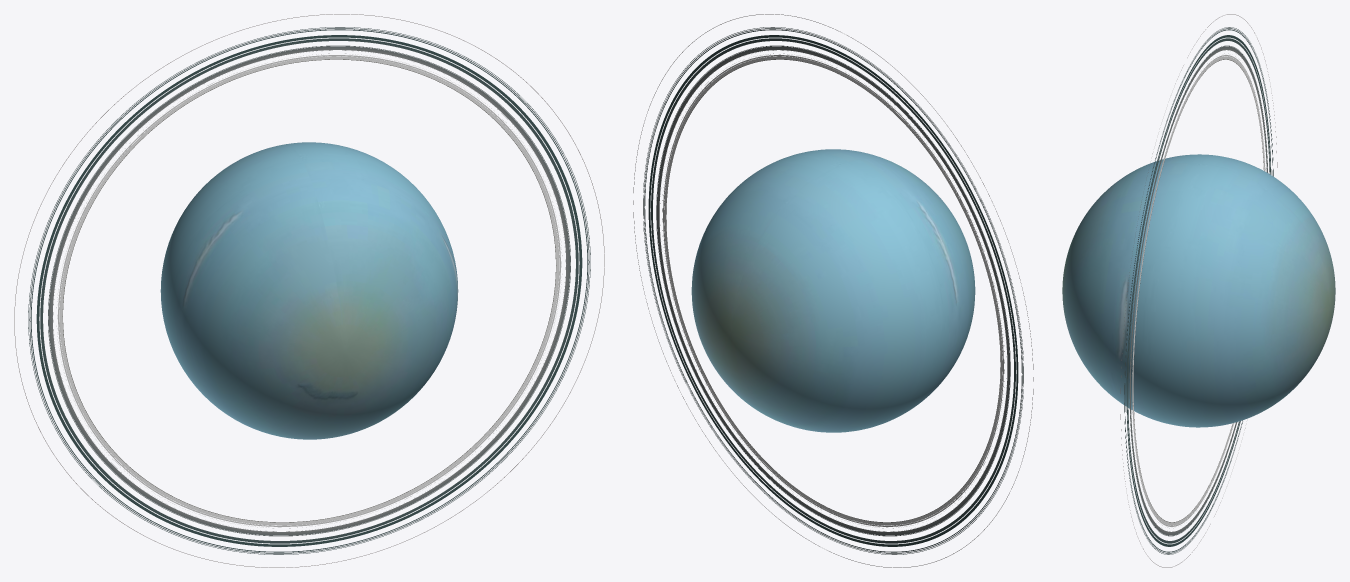
File: uranus.glb
The picture shows the model from 3 angles, left to right: view 1: azimuth 30°, elevation 25°; view 2: azimuth 150°, elevation 25°; view 3: azimuth 270°, elevation 25°; orthographic projection. The views are drawn at different scales.
Visible parts, largest first — view 1: node_id106, node_id108; view 2: node_id106, node_id108; view 3: node_id106, node_id108.
Boxes of the visible parts, x1,y1,x2,y2 form: node_id106: (160,142,458,439); node_id108: (14,14,604,567); node_id106: (691,149,975,432); node_id108: (633,14,1033,567); node_id106: (1062,154,1335,427); node_id108: (1120,14,1277,567).
Bounding box in the file's own units: 0.4914 × 0.512 × 0.2506.
2 materials, 2 textured.
